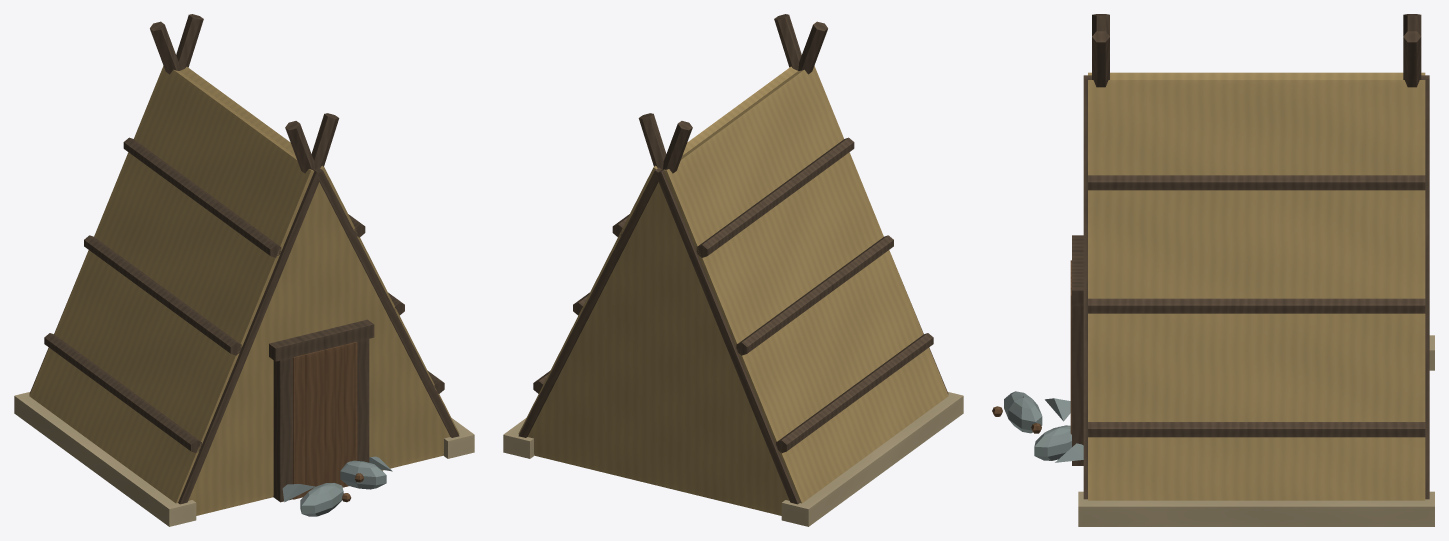
The model's file is lashed-a-frame.glb.
3 renders of one model, left to right at view 1: azimuth 30°, elevation 25°; view 2: azimuth 150°, elevation 25°; view 3: azimuth 270°, elevation 25°, orthographic. The views are drawn at different scales.
Parts seen in each view (by area): view 1: lashed-a-frame; view 2: lashed-a-frame; view 3: lashed-a-frame.
Boxes of the visible parts, x1,y1,x2,y2 form: lashed-a-frame: (14,14,474,526); lashed-a-frame: (503,14,963,526); lashed-a-frame: (992,14,1434,526).
Bounding box in the file's own units: 0.625 × 0.7172 × 0.6831.
Materials: 1 (1 with a texture image).
